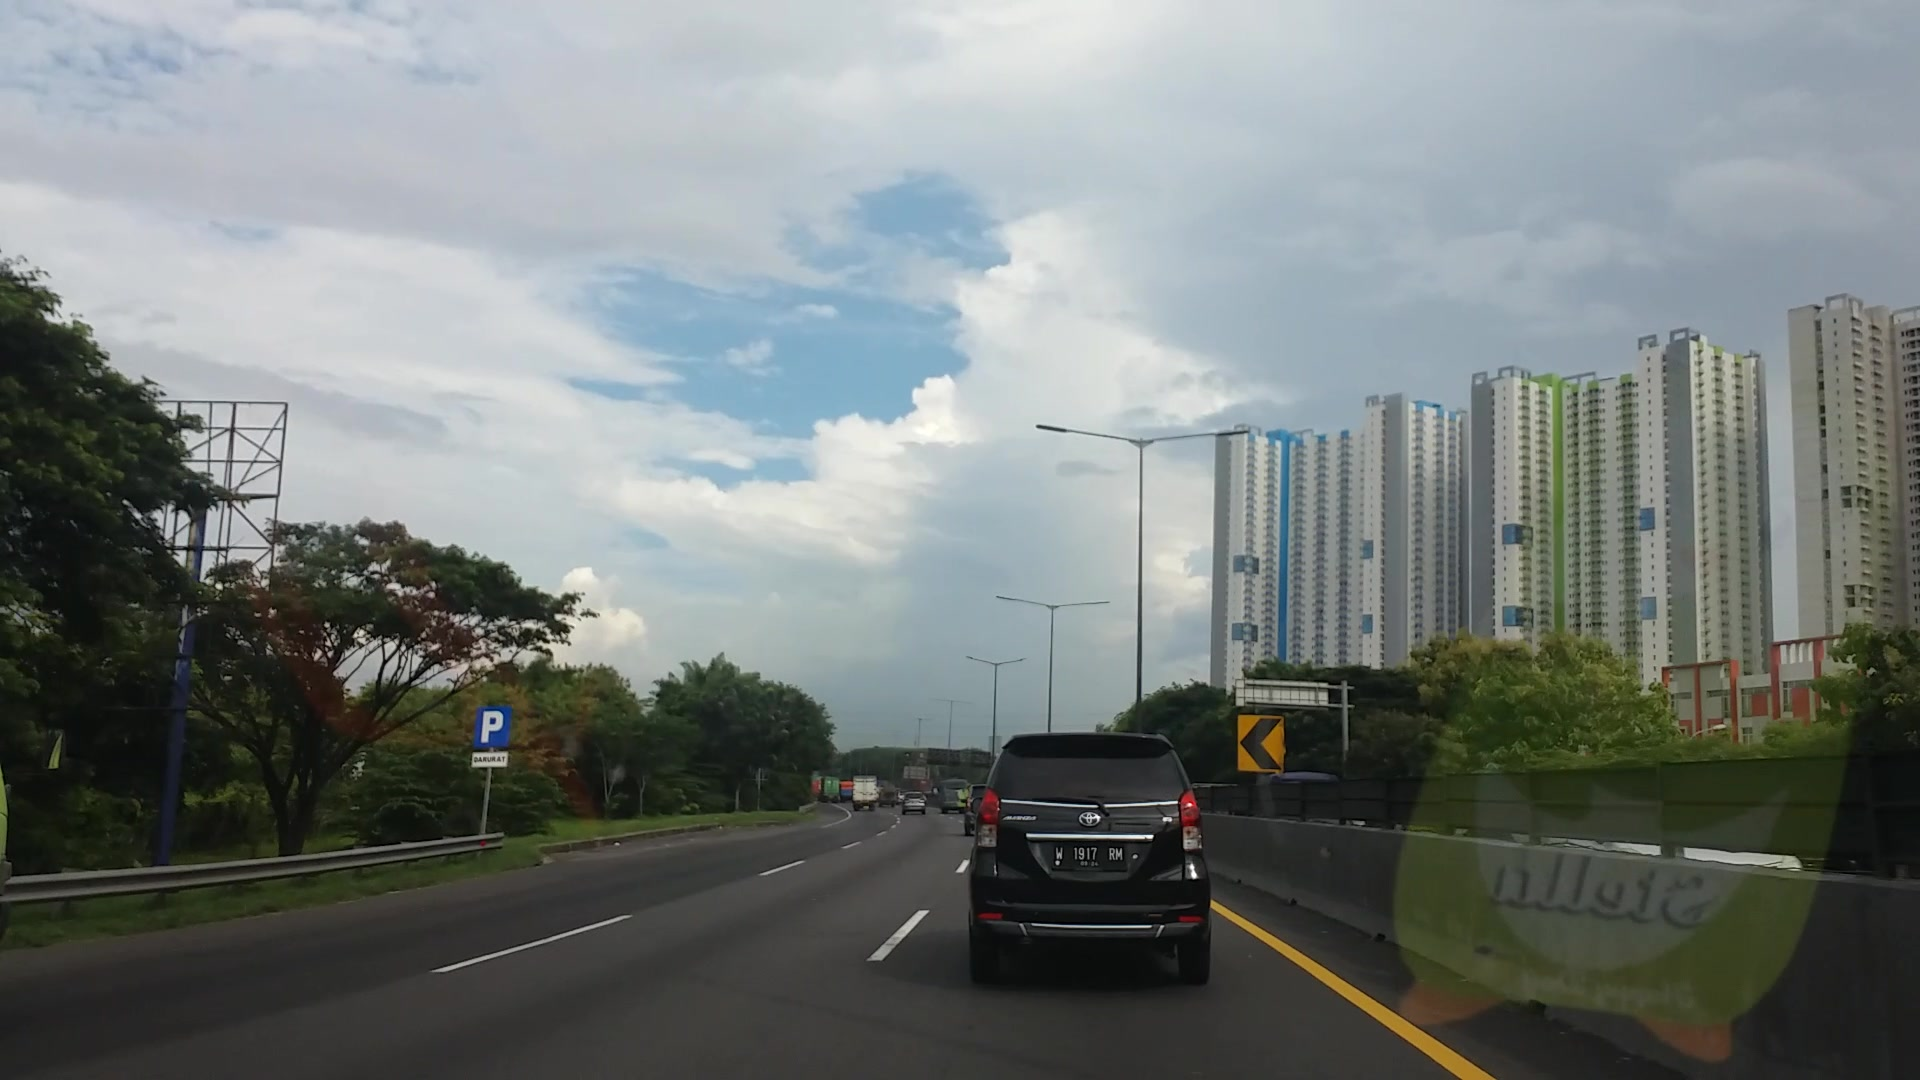plate_positive: (1051, 843, 1126, 870)
